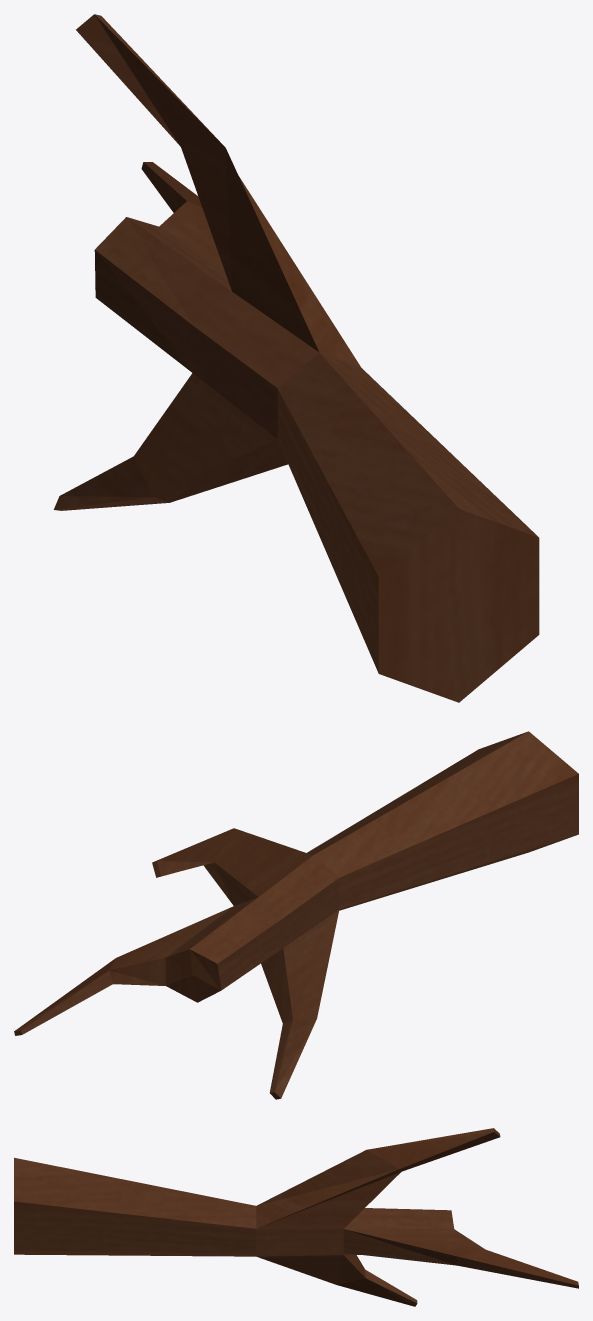
The model's file is tree-trunk-02.obj.
The picture shows the model from 3 angles, top to bottom: view 1: azimuth 30°, elevation 25°; view 2: azimuth 150°, elevation 25°; view 3: azimuth 270°, elevation 25°; orthographic projection. The views are drawn at different scales.
Parts seen in each view (by area): view 1: tree-trunk-02_Circle.028; view 2: tree-trunk-02_Circle.028; view 3: tree-trunk-02_Circle.028.
Part boxes in pixels (x1,y1,x2,y2): tree-trunk-02_Circle.028: [53, 14, 539, 702]; tree-trunk-02_Circle.028: [14, 731, 578, 1099]; tree-trunk-02_Circle.028: [14, 1128, 578, 1306].
Bounding box in the file's own units: 1.72 × 2 × 4.96.
